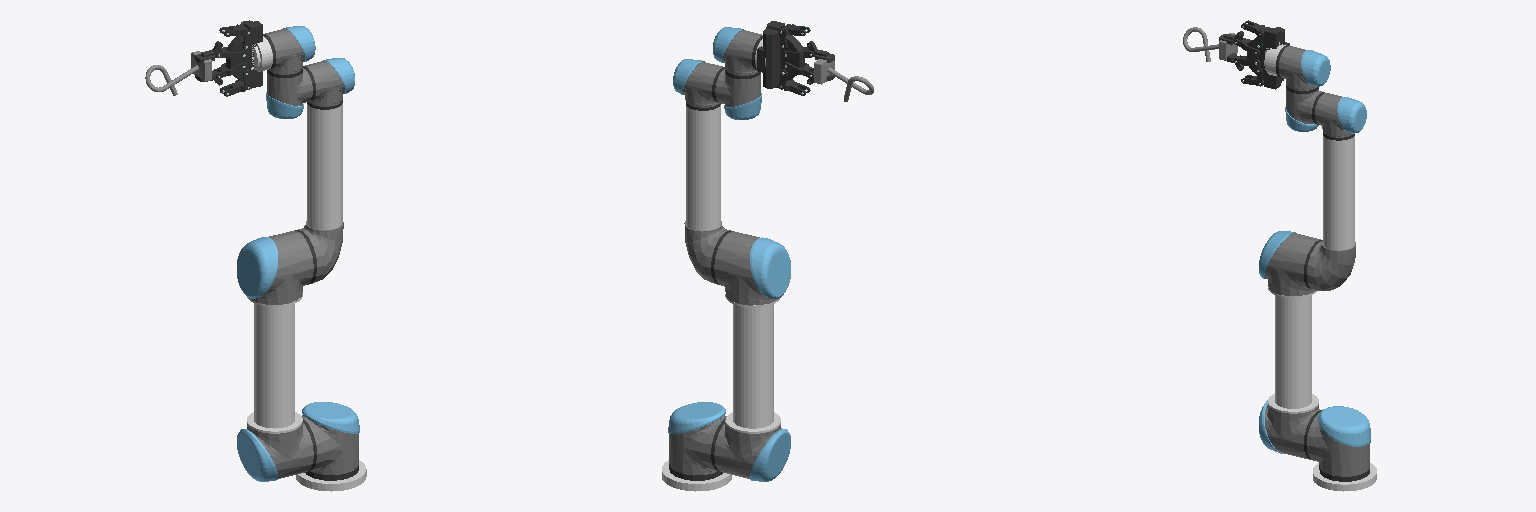
--- Render facts (derived) ---
Views: 3 orthographic renders of the robot side by side, from view 1: azimuth 30°, elevation 25°; view 2: azimuth 150°, elevation 25°; view 3: azimuth 330°, elevation 25°.
Robot: robot_base_respondable — 17 links, 16 joints (10 revolute, 6 continuous); root link robot_base; default pose: all joints at 0.
Links seen in each view (by area): view 1: link_2_respondable_respondable_respondable_respondable, link_3_respondable_respondable_respondable_respondable, link_respondable_respondable_respondable_respondable, link_5_respondable_respondable_respondable_respondable, link_4_respondable_respondable_respondable_respondable, robot_base, robotiq_base_respondable_respondable_respondable_respondable, alpha_link_respondable_respondable; view 2: link_2_respondable_respondable_respondable_respondable, link_3_respondable_respondable_respondable_respondable, link_respondable_respondable_respondable_respondable, link_5_respondable_respondable_respondable_respondable, link_4_respondable_respondable_respondable_respondable, robotiq_base_respondable_respondable_respondable_respondable, robot_base, alpha_link_respondable_respondable; view 3: link_2_respondable_respondable_respondable_respondable, link_3_respondable_respondable_respondable_respondable, link_respondable_respondable_respondable_respondable, link_5_respondable_respondable_respondable_respondable, link_4_respondable_respondable_respondable_respondable, robot_base, robotiq_base_respondable_respondable_respondable_respondable, alpha_link_respondable_respondable.
Link boxes in pixels (bbox=[...]): link_2_respondable_respondable_respondable_respondable: bbox=[237, 230, 316, 481]; link_3_respondable_respondable_respondable_respondable: bbox=[297, 58, 354, 283]; link_respondable_respondable_respondable_respondable: bbox=[302, 402, 359, 474]; link_5_respondable_respondable_respondable_respondable: bbox=[263, 26, 315, 77]; link_4_respondable_respondable_respondable_respondable: bbox=[266, 66, 315, 118]; robot_base: bbox=[296, 460, 366, 491]; robotiq_base_respondable_respondable_respondable_respondable: bbox=[226, 20, 262, 88]; alpha_link_respondable_respondable: bbox=[145, 51, 211, 95]; link_2_respondable_respondable_respondable_respondable: bbox=[711, 230, 790, 481]; link_3_respondable_respondable_respondable_respondable: bbox=[673, 59, 732, 284]; link_respondable_respondable_respondable_respondable: bbox=[668, 402, 726, 475]; link_5_respondable_respondable_respondable_respondable: bbox=[713, 27, 762, 78]; link_4_respondable_respondable_respondable_respondable: bbox=[712, 67, 761, 119]; robotiq_base_respondable_respondable_respondable_respondable: bbox=[757, 21, 804, 88]; robot_base: bbox=[662, 460, 731, 491]; alpha_link_respondable_respondable: bbox=[814, 59, 873, 101]; link_2_respondable_respondable_respondable_respondable: bbox=[1259, 231, 1322, 459]; link_3_respondable_respondable_respondable_respondable: bbox=[1307, 93, 1366, 290]; link_respondable_respondable_respondable_respondable: bbox=[1304, 406, 1370, 476]; link_5_respondable_respondable_respondable_respondable: bbox=[1275, 45, 1330, 93]; link_4_respondable_respondable_respondable_respondable: bbox=[1285, 88, 1324, 131]; robot_base: bbox=[1313, 463, 1376, 491]; robotiq_base_respondable_respondable_respondable_respondable: bbox=[1247, 27, 1289, 89]; alpha_link_respondable_respondable: bbox=[1183, 27, 1237, 61].
Size in the robot's own frame: 0.5032 by 0.1455 by 1.08 metres.
Meshes: 43 distinct files referenced, 43 mesh visuals loaded (43 Collada DAE).

URDF robot description (robot_base_respondable):
<?xml version="1.0"?>
<robot name="robot_base_respondable">
    <link name="robot_base">
        <collision name="robot_base_respondable">
            <origin xyz="0.000000 -0.000000 0.008500" rpy="3.141592 3.141593 -2.552481" />
            <geometry>
                <cylinder length="0.012300089001656" radius="0.056886240839958" />
            </geometry>
        </collision>
        <collision name="robot_base_respondable">
            <origin xyz="0.000000 -0.000000 -0.006150" rpy="-3.141592 3.141593 1.747927" />
            <geometry>
                <cylinder length="0.017000352963805" radius="0.072642646729946" />
            </geometry>
        </collision>
        <visual name="robot_base_visual">
            <origin xyz="0.000000 -0.000000 0.000000" rpy="3.141592 3.141593 3.141592" />
            <geometry>
                <mesh filename="models/urdf/ur5_closed_robotiq_alpha_oriented/ur5_closed_robotiq_alpha_oriented_robot_base_visual_vis_1.dae" />
            </geometry>
            <material name="robot_base_visual_material">
                <color rgba="0.870588 0.870588 0.870588 1.0" />
            </material>
        </visual>
        <visual name="robot_base_visual">
            <origin xyz="0.000000 -0.000000 0.000000" rpy="3.141592 3.141593 3.141592" />
            <geometry>
                <mesh filename="models/urdf/ur5_closed_robotiq_alpha_oriented/ur5_closed_robotiq_alpha_oriented_robot_base_visual_vis_2.dae" />
            </geometry>
            <material name="robot_base_visual_material">
                <color rgba="0.282353 0.282353 0.282353 1.0" />
            </material>
        </visual>
    </link>
    <joint type="revolute" name="joint">
        <axis xyz="0 0 1" />
        <limit effort="200.0" velocity="1.5707963705063" lower="-6.2831854820251" upper="6.2831854820251" />
        <parent link="robot_base" />
        <child link="link_respondable_respondable_respondable_respondable" />
        <origin xyz="-0.000000 -0.000000 0.008500" rpy="3.141592 3.141593 3.141592" />
    </joint>
    <link name="link_respondable_respondable_respondable_respondable">
        <inertial>
            <origin rpy="3.141592 3.141593 3.141592" xyz="-0.012312 0.000048 0.066405" />
            <inertia izz="0.09818059467752" iyz="-7.9251186174956e-05" ixx="0.095492165355254" iyy="0.10672965841326" ixz="0.0024490834762624" ixy="8.9516803607533e-05" />
            <mass value="2.5" />
        </inertial>
        <collision name="link_respondable_respondable_respondable_respondable">
            <origin xyz="-0.007178 0.000095 0.070381" rpy="3.141592 3.141593 3.141592" />
            <geometry>
                <mesh filename="models/urdf/ur5_closed_robotiq_alpha_oriented/ur5_closed_robotiq_alpha_oriented_link_respondable_respondable_respondable_respondable_coll_1.dae" />
            </geometry>
        </collision>
        <collision name="link_respondable_respondable_respondable_respondable">
            <origin xyz="-0.007178 0.000095 0.070381" rpy="3.141592 3.141593 3.141592" />
            <geometry>
                <mesh filename="models/urdf/ur5_closed_robotiq_alpha_oriented/ur5_closed_robotiq_alpha_oriented_link_respondable_respondable_respondable_respondable_coll_2.dae" />
            </geometry>
        </collision>
        <collision name="link_respondable_respondable_respondable_respondable">
            <origin xyz="-0.007178 0.000095 0.070381" rpy="3.141592 3.141593 3.141592" />
            <geometry>
                <mesh filename="models/urdf/ur5_closed_robotiq_alpha_oriented/ur5_closed_robotiq_alpha_oriented_link_respondable_respondable_respondable_respondable_coll_3.dae" />
            </geometry>
        </collision>
        <visual name="link_respondable_respondable_respondable_visual">
            <origin xyz="-0.007150 0.000000 0.070335" rpy="3.141592 3.141593 3.141592" />
            <geometry>
                <mesh filename="models/urdf/ur5_closed_robotiq_alpha_oriented/ur5_closed_robotiq_alpha_oriented_link_respondable_respondable_respondable_visual_vis_1.dae" />
            </geometry>
            <material name="link_respondable_respondable_respondable_visual_material">
                <color rgba="0.282353 0.282353 0.282353 1.0" />
            </material>
        </visual>
        <visual name="link_respondable_respondable_respondable_visual">
            <origin xyz="-0.007150 0.000000 0.070335" rpy="3.141592 3.141593 3.141592" />
            <geometry>
                <mesh filename="models/urdf/ur5_closed_robotiq_alpha_oriented/ur5_closed_robotiq_alpha_oriented_link_respondable_respondable_respondable_visual_vis_2.dae" />
            </geometry>
            <material name="link_respondable_respondable_respondable_visual_material">
                <color rgba="0.535294 0.535294 0.535294 1.0" />
            </material>
        </visual>
        <visual name="link_respondable_respondable_respondable_visual">
            <origin xyz="-0.007150 0.000000 0.070335" rpy="3.141592 3.141593 3.141592" />
            <geometry>
                <mesh filename="models/urdf/ur5_closed_robotiq_alpha_oriented/ur5_closed_robotiq_alpha_oriented_link_respondable_respondable_respondable_visual_vis_3.dae" />
            </geometry>
            <material name="link_respondable_respondable_respondable_visual_material">
                <color rgba="0.508235 0.761224 0.903529 1.0" />
            </material>
        </visual>
    </link>
    <joint type="revolute" name="joint_2">
        <axis xyz="0 0 1" />
        <limit effort="200.0" velocity="1.5707963705063" lower="-6.2831854820251" upper="6.2831854820251" />
        <parent link="link_respondable_respondable_respondable_respondable" />
        <child link="link_2_respondable_respondable_respondable_respondable" />
        <origin xyz="-0.070300 0.000000 0.066050" rpy="0.000001 -1.570796 0.000000" />
    </joint>
    <link name="link_2_respondable_respondable_respondable_respondable">
        <inertial>
            <origin rpy="-0.000000 1.570796 0.000000" xyz="0.215595 -0.000035 0.063573" />
            <inertia izz="0.067345368316432" iyz="-0.00017721757850982" ixx="0.62573305153059" iyy="0.63325135224174" ixz="-0.0052638063542259" ixy="9.2431180680848e-06" />
            <mass value="5.6999998092651" />
        </inertial>
        <collision name="link_2_respondable_respondable_respondable_respondable">
            <origin xyz="0.212550 -0.000115 0.064235" rpy="-0.000000 1.570796 0.000000" />
            <geometry>
                <mesh filename="models/urdf/ur5_closed_robotiq_alpha_oriented/ur5_closed_robotiq_alpha_oriented_link_2_respondable_respondable_respondable_respondable_coll_1.dae" />
            </geometry>
        </collision>
        <collision name="link_2_respondable_respondable_respondable_respondable">
            <origin xyz="0.212550 -0.000115 0.064235" rpy="-0.000000 1.570796 0.000000" />
            <geometry>
                <mesh filename="models/urdf/ur5_closed_robotiq_alpha_oriented/ur5_closed_robotiq_alpha_oriented_link_2_respondable_respondable_respondable_respondable_coll_2.dae" />
            </geometry>
        </collision>
        <collision name="link_2_respondable_respondable_respondable_respondable">
            <origin xyz="0.212550 -0.000115 0.064235" rpy="-0.000000 1.570796 0.000000" />
            <geometry>
                <mesh filename="models/urdf/ur5_closed_robotiq_alpha_oriented/ur5_closed_robotiq_alpha_oriented_link_2_respondable_respondable_respondable_respondable_coll_3.dae" />
            </geometry>
        </collision>
        <collision name="link_2_respondable_respondable_respondable_respondable">
            <origin xyz="0.212550 -0.000115 0.064235" rpy="-0.000000 1.570796 0.000000" />
            <geometry>
                <mesh filename="models/urdf/ur5_closed_robotiq_alpha_oriented/ur5_closed_robotiq_alpha_oriented_link_2_respondable_respondable_respondable_respondable_coll_4.dae" />
            </geometry>
        </collision>
        <collision name="link_2_respondable_respondable_respondable_respondable">
            <origin xyz="0.212550 -0.000115 0.064235" rpy="-0.000000 1.570796 0.000000" />
            <geometry>
                <mesh filename="models/urdf/ur5_closed_robotiq_alpha_oriented/ur5_closed_robotiq_alpha_oriented_link_2_respondable_respondable_respondable_respondable_coll_5.dae" />
            </geometry>
        </collision>
        <collision name="link_2_respondable_respondable_respondable_respondable">
            <origin xyz="0.212550 -0.000115 0.064235" rpy="-0.000000 1.570796 0.000000" />
            <geometry>
                <mesh filename="models/urdf/ur5_closed_robotiq_alpha_oriented/ur5_closed_robotiq_alpha_oriented_link_2_respondable_respondable_respondable_respondable_coll_6.dae" />
            </geometry>
        </collision>
        <collision name="link_2_respondable_respondable_respondable_respondable">
            <origin xyz="0.212550 -0.000115 0.064235" rpy="-0.000000 1.570796 0.000000" />
            <geometry>
                <mesh filename="models/urdf/ur5_closed_robotiq_alpha_oriented/ur5_closed_robotiq_alpha_oriented_link_2_respondable_respondable_respondable_respondable_coll_7.dae" />
            </geometry>
        </collision>
        <visual name="link_2_respondable_respondable_respondable_visual">
            <origin xyz="0.212550 -0.000000 0.064217" rpy="-0.000000 1.570796 0.000000" />
            <geometry>
                <mesh filename="models/urdf/ur5_closed_robotiq_alpha_oriented/ur5_closed_robotiq_alpha_oriented_link_2_respondable_respondable_respondable_visual_vis_1.dae" />
            </geometry>
            <material name="link_2_respondable_respondable_respondable_visual_material">
                <color rgba="0.870588 0.870588 0.870588 1.0" />
            </material>
        </visual>
        <visual name="link_2_respondable_respondable_respondable_visual">
            <origin xyz="0.212550 -0.000000 0.064217" rpy="-0.000000 1.570796 0.000000" />
            <geometry>
                <mesh filename="models/urdf/ur5_closed_robotiq_alpha_oriented/ur5_closed_robotiq_alpha_oriented_link_2_respondable_respondable_respondable_visual_vis_2.dae" />
            </geometry>
            <material name="link_2_respondable_respondable_respondable_visual_material">
                <color rgba="0.508235 0.761224 0.903529 1.0" />
            </material>
        </visual>
        <visual name="link_2_respondable_respondable_respondable_visual">
            <origin xyz="0.212550 -0.000000 0.064217" rpy="-0.000000 1.570796 0.000000" />
            <geometry>
                <mesh filename="models/urdf/ur5_closed_robotiq_alpha_oriented/ur5_closed_robotiq_alpha_oriented_link_2_respondable_respondable_respondable_visual_vis_3.dae" />
            </geometry>
            <material name="link_2_respondable_respondable_respondable_visual_material">
                <color rgba="0.535294 0.535294 0.535294 1.0" />
            </material>
        </visual>
        <visual name="link_2_respondable_respondable_respondable_visual">
            <origin xyz="0.212550 -0.000000 0.064217" rpy="-0.000000 1.570796 0.000000" />
            <geometry>
                <mesh filename="models/urdf/ur5_closed_robotiq_alpha_oriented/ur5_closed_robotiq_alpha_oriented_link_2_respondable_respondable_respondable_visual_vis_4.dae" />
            </geometry>
            <material name="link_2_respondable_respondable_respondable_visual_material">
                <color rgba="0.282353 0.282353 0.282353 1.0" />
            </material>
        </visual>
        <visual name="link_2_respondable_respondable_respondable_visual">
            <origin xyz="0.212550 -0.000000 0.064217" rpy="-0.000000 1.570796 0.000000" />
            <geometry>
                <mesh filename="models/urdf/ur5_closed_robotiq_alpha_oriented/ur5_closed_robotiq_alpha_oriented_link_2_respondable_respondable_respondable_visual_vis_5.dae" />
            </geometry>
            <material name="link_2_respondable_respondable_respondable_visual_material">
                <color rgba="0.535294 0.535294 0.535294 1.0" />
            </material>
        </visual>
        <visual name="link_2_respondable_respondable_respondable_visual">
            <origin xyz="0.212550 -0.000000 0.064217" rpy="-0.000000 1.570796 0.000000" />
            <geometry>
                <mesh filename="models/urdf/ur5_closed_robotiq_alpha_oriented/ur5_closed_robotiq_alpha_oriented_link_2_respondable_respondable_respondable_visual_vis_6.dae" />
            </geometry>
            <material name="link_2_respondable_respondable_respondable_visual_material">
                <color rgba="0.508235 0.761224 0.903529 1.0" />
            </material>
        </visual>
    </link>
    <joint type="revolute" name="joint_3">
        <axis xyz="0 0 1" />
        <limit effort="200.0" velocity="1.5707963705063" lower="-6.2831854820251" upper="6.2831854820251" />
        <parent link="link_2_respondable_respondable_respondable_respondable" />
        <child link="link_3_respondable_respondable_respondable_respondable" />
        <origin xyz="0.425100 -0.000000 0.000000" rpy="3.141593 3.141592 3.141592" />
    </joint>
    <link name="link_3_respondable_respondable_respondable_respondable">
        <inertial>
            <origin rpy="0.000000 1.570796 0.000000" xyz="0.192773 0.000015 -0.050153" />
            <inertia izz="0.035597955537677" iyz="-2.1029099787318e-05" ixx="0.4592564485459" iyy="0.46060709235019" ixz="-0.027670910392482" ixy="2.2187787147887e-06" />
            <mass value="3.9000000953674" />
        </inertial>
        <collision name="link_3_respondable_respondable_respondable_respondable">
            <origin xyz="0.186773 0.000016 -0.057847" rpy="0.000000 1.570796 0.000000" />
            <geometry>
                <mesh filename="models/urdf/ur5_closed_robotiq_alpha_oriented/ur5_closed_robotiq_alpha_oriented_link_3_respondable_respondable_respondable_respondable_coll_1.dae" />
            </geometry>
        </collision>
        <collision name="link_3_respondable_respondable_respondable_respondable">
            <origin xyz="0.186773 0.000016 -0.057847" rpy="0.000000 1.570796 0.000000" />
            <geometry>
                <mesh filename="models/urdf/ur5_closed_robotiq_alpha_oriented/ur5_closed_robotiq_alpha_oriented_link_3_respondable_respondable_respondable_respondable_coll_2.dae" />
            </geometry>
        </collision>
        <collision name="link_3_respondable_respondable_respondable_respondable">
            <origin xyz="0.186773 0.000016 -0.057847" rpy="0.000000 1.570796 0.000000" />
            <geometry>
                <mesh filename="models/urdf/ur5_closed_robotiq_alpha_oriented/ur5_closed_robotiq_alpha_oriented_link_3_respondable_respondable_respondable_respondable_coll_3.dae" />
            </geometry>
        </collision>
        <collision name="link_3_respondable_respondable_respondable_respondable">
            <origin xyz="0.186773 0.000016 -0.057847" rpy="0.000000 1.570796 0.000000" />
            <geometry>
                <mesh filename="models/urdf/ur5_closed_robotiq_alpha_oriented/ur5_closed_robotiq_alpha_oriented_link_3_respondable_respondable_respondable_respondable_coll_4.dae" />
            </geometry>
        </collision>
        <collision name="link_3_respondable_respondable_respondable_respondable">
            <origin xyz="0.186773 0.000016 -0.057847" rpy="0.000000 1.570796 0.000000" />
            <geometry>
                <mesh filename="models/urdf/ur5_closed_robotiq_alpha_oriented/ur5_closed_robotiq_alpha_oriented_link_3_respondable_respondable_respondable_respondable_coll_5.dae" />
            </geometry>
        </collision>
        <visual name="link_3_respondable_respondable_respondable_visual">
            <origin xyz="0.186650 -0.000000 -0.057850" rpy="0.000000 1.570796 0.000000" />
            <geometry>
                <mesh filename="models/urdf/ur5_closed_robotiq_alpha_oriented/ur5_closed_robotiq_alpha_oriented_link_3_respondable_respondable_respondable_visual_vis_1.dae" />
            </geometry>
            <material name="link_3_respondable_respondable_respondable_visual_material">
                <color rgba="0.870588 0.870588 0.870588 1.0" />
            </material>
        </visual>
        <visual name="link_3_respondable_respondable_respondable_visual">
            <origin xyz="0.186650 -0.000000 -0.057850" rpy="0.000000 1.570796 0.000000" />
            <geometry>
                <mesh filename="models/urdf/ur5_closed_robotiq_alpha_oriented/ur5_closed_robotiq_alpha_oriented_link_3_respondable_respondable_respondable_visual_vis_2.dae" />
            </geometry>
            <material name="link_3_respondable_respondable_respondable_visual_material">
                <color rgba="0.535294 0.535294 0.535294 1.0" />
            </material>
        </visual>
        <visual name="link_3_respondable_respondable_respondable_visual">
            <origin xyz="0.186650 -0.000000 -0.057850" rpy="0.000000 1.570796 0.000000" />
            <geometry>
                <mesh filename="models/urdf/ur5_closed_robotiq_alpha_oriented/ur5_closed_robotiq_alpha_oriented_link_3_respondable_respondable_respondable_visual_vis_3.dae" />
            </geometry>
            <material name="link_3_respondable_respondable_respondable_visual_material">
                <color rgba="0.508235 0.761224 0.903529 1.0" />
            </material>
        </visual>
        <visual name="link_3_respondable_respondable_respondable_visual">
            <origin xyz="0.186650 -0.000000 -0.057850" rpy="0.000000 1.570796 0.000000" />
            <geometry>
                <mesh filename="models/urdf/ur5_closed_robotiq_alpha_oriented/ur5_closed_robotiq_alpha_oriented_link_3_respondable_respondable_respondable_visual_vis_4.dae" />
            </geometry>
            <material name="link_3_respondable_respondable_respondable_visual_material">
                <color rgba="0.282353 0.282353 0.282353 1.0" />
            </material>
        </visual>
        <visual name="link_3_respondable_respondable_respondable_visual">
            <origin xyz="0.186650 -0.000000 -0.057850" rpy="0.000000 1.570796 0.000000" />
            <geometry>
                <mesh filename="models/urdf/ur5_closed_robotiq_alpha_oriented/ur5_closed_robotiq_alpha_oriented_link_3_respondable_respondable_respondable_visual_vis_5.dae" />
            </geometry>
            <material name="link_3_respondable_respondable_respondable_visual_material">
                <color rgba="0.535294 0.535294 0.535294 1.0" />
            </material>
        </visual>
    </link>
    <joint type="revolute" name="joint_4">
        <axis xyz="0 0 1" />
        <limit effort="200.0" velocity="1.5707963705063" lower="-6.2831854820251" upper="6.2831854820251" />
        <parent link="link_3_respondable_respondable_respondable_respondable" />
        <child link="link_4_respondable_respondable_respondable_respondable" />
        <origin xyz="0.392150 -0.000000 0.000000" rpy="3.141593 3.141592 3.141592" />
    </joint>
    <link name="link_4_respondable_respondable_respondable_respondable">
        <inertial>
            <origin rpy="0.000000 1.570796 0.000000" xyz="-0.005517 -0.000003 0.030943" />
            <inertia izz="0.087106483494915" iyz="-1.791527123899e-05" ixx="0.10017005794782" iyy="0.11466452218562" ixz="-0.0020900872562349" ixy="3.1976010243315e-06" />
            <mass value="2.5" />
        </inertial>
        <collision name="link_4_respondable_respondable_respondable_respondable">
            <origin xyz="-0.007501 -0.000045 0.032830" rpy="0.000000 1.570796 0.000000" />
            <geometry>
                <mesh filename="models/urdf/ur5_closed_robotiq_alpha_oriented/ur5_closed_robotiq_alpha_oriented_link_4_respondable_respondable_respondable_respondable_coll_1.dae" />
            </geometry>
        </collision>
        <collision name="link_4_respondable_respondable_respondable_respondable">
            <origin xyz="-0.007501 -0.000045 0.032830" rpy="0.000000 1.570796 0.000000" />
            <geometry>
                <mesh filename="models/urdf/ur5_closed_robotiq_alpha_oriented/ur5_closed_robotiq_alpha_oriented_link_4_respondable_respondable_respondable_respondable_coll_2.dae" />
            </geometry>
        </collision>
        <collision name="link_4_respondable_respondable_respondable_respondable">
            <origin xyz="-0.007501 -0.000045 0.032830" rpy="0.000000 1.570796 0.000000" />
            <geometry>
                <mesh filename="models/urdf/ur5_closed_robotiq_alpha_oriented/ur5_closed_robotiq_alpha_oriented_link_4_respondable_respondable_respondable_respondable_coll_3.dae" />
            </geometry>
        </collision>
        <visual name="link_4_respondable_respondable_respondable_visual">
            <origin xyz="-0.007500 0.000000 0.032800" rpy="0.000000 1.570796 0.000000" />
            <geometry>
                <mesh filename="models/urdf/ur5_closed_robotiq_alpha_oriented/ur5_closed_robotiq_alpha_oriented_link_4_respondable_respondable_respondable_visual_vis_1.dae" />
            </geometry>
            <material name="link_4_respondable_respondable_respondable_visual_material">
                <color rgba="0.282353 0.282353 0.282353 1.0" />
            </material>
        </visual>
        <visual name="link_4_respondable_respondable_respondable_visual">
            <origin xyz="-0.007500 0.000000 0.032800" rpy="0.000000 1.570796 0.000000" />
            <geometry>
                <mesh filename="models/urdf/ur5_closed_robotiq_alpha_oriented/ur5_closed_robotiq_alpha_oriented_link_4_respondable_respondable_respondable_visual_vis_2.dae" />
            </geometry>
            <material name="link_4_respondable_respondable_respondable_visual_material">
                <color rgba="0.535294 0.535294 0.535294 1.0" />
            </material>
        </visual>
        <visual name="link_4_respondable_respondable_respondable_visual">
            <origin xyz="-0.007500 0.000000 0.032800" rpy="0.000000 1.570796 0.000000" />
            <geometry>
                <mesh filename="models/urdf/ur5_closed_robotiq_alpha_oriented/ur5_closed_robotiq_alpha_oriented_link_4_respondable_respondable_respondable_visual_vis_3.dae" />
            </geometry>
            <material name="link_4_respondable_respondable_respondable_visual_material">
                <color rgba="0.508235 0.761224 0.903529 1.0" />
            </material>
        </visual>
    </link>
    <joint type="revolute" name="joint_5">
        <axis xyz="0 0 1" />
        <limit effort="200.0" velocity="1.5707963705063" lower="-6.2831854820251" upper="6.2831854820251" />
        <parent link="link_4_respondable_respondable_respondable_respondable" />
        <child link="link_5_respondable_respondable_respondable_respondable" />
        <origin xyz="0.045575 -0.000000 0.039700" rpy="2.571178 1.570799 2.571178" />
    </joint>
    <link name="link_5_respondable_respondable_respondable_respondable">
        <inertial>
            <origin rpy="3.141592 3.141593 3.141592" xyz="0.002100 0.000002 0.040669" />
            <inertia izz="0.1041509279002" iyz="3.8714712477568e-06" ixx="0.08179215416809" iyy="0.11739579576874" ixz="-0.00073245390311674" ixy="-1.5531769026879e-05" />
            <mass value="2.5" />
        </inertial>
        <collision name="link_5_respondable_respondable_respondable_respondable">
            <origin xyz="0.003601 0.000045 0.042305" rpy="3.141592 3.141593 3.141592" />
            <geometry>
                <mesh filename="models/urdf/ur5_closed_robotiq_alpha_oriented/ur5_closed_robotiq_alpha_oriented_link_5_respondable_respondable_respondable_respondable_coll_1.dae" />
            </geometry>
        </collision>
        <collision name="link_5_respondable_respondable_respondable_respondable">
            <origin xyz="0.003601 0.000045 0.042305" rpy="3.141592 3.141593 3.141592" />
            <geometry>
                <mesh filename="models/urdf/ur5_closed_robotiq_alpha_oriented/ur5_closed_robotiq_alpha_oriented_link_5_respondable_respondable_respondable_respondable_coll_2.dae" />
            </geometry>
        </collision>
        <collision name="link_5_respondable_respondable_respondable_respondable">
            <origin xyz="0.003601 0.000045 0.042305" rpy="3.141592 3.141593 3.141592" />
            <geometry>
                <mesh filename="models/urdf/ur5_closed_robotiq_alpha_oriented/ur5_closed_robotiq_alpha_oriented_link_5_respondable_respondable_respondable_respondable_coll_3.dae" />
            </geometry>
        </collision>
        <visual name="link_5_respondable_respondable_respondable_visual">
            <origin xyz="0.003600 -0.000000 0.042275" rpy="3.141592 3.141593 3.141592" />
            <geometry>
                <mesh filename="models/urdf/ur5_closed_robotiq_alpha_oriented/ur5_closed_robotiq_alpha_oriented_link_5_respondable_respondable_respondable_visual_vis_1.dae" />
            </geometry>
            <material name="link_5_respondable_respondable_respondable_visual_material">
                <color rgba="0.535294 0.535294 0.535294 1.0" />
            </material>
        </visual>
        <visual name="link_5_respondable_respondable_respondable_visual">
            <origin xyz="0.003600 -0.000000 0.042275" rpy="3.141592 3.141593 3.141592" />
            <geometry>
                <mesh filename="models/urdf/ur5_closed_robotiq_alpha_oriented/ur5_closed_robotiq_alpha_oriented_link_5_respondable_respondable_respondable_visual_vis_2.dae" />
            </geometry>
            <material name="link_5_respondable_respondable_respondable_visual_material">
                <color rgba="0.508235 0.761224 0.903529 1.0" />
            </material>
        </visual>
        <visual name="link_5_respondable_respondable_respondable_visual">
            <origin xyz="0.003600 -0.000000 0.042275" rpy="3.141592 3.141593 3.141592" />
            <geometry>
                <mesh filename="models/urdf/ur5_closed_robotiq_alpha_oriented/ur5_closed_robotiq_alpha_oriented_link_5_respondable_respondable_respondable_visual_vis_3.dae" />
            </geometry>
            <material name="link_5_respondable_respondable_respondable_visual_material">
                <color rgba="0.282353 0.282353 0.282353 1.0" />
            </material>
        </visual>
        <visual name="link_5_respondable_respondable_respondable_visual">
            <origin xyz="0.003600 -0.000000 0.042275" rpy="3.141592 3.141593 3.141592" />
            <geometry>
                <mesh filename="models/urdf/ur5_closed_robotiq_alpha_oriented/ur5_closed_robotiq_alpha_oriented_link_5_respondable_respondable_respondable_visual_vis_4.dae" />
            </geometry>
            <material name="link_5_respondable_respondable_respondable_visual_material">
                <color rgba="0.282353 0.282353 0.282353 1.0" />
            </material>
        </visual>
    </link>
    <joint type="revolute" name="joint_6">
        <axis xyz="0 0 1" />
        <limit effort="200.0" velocity="1.5707963705063" lower="-6.2831854820251" upper="6.2831854820251" />
        <parent link="link_5_respondable_respondable_respondable_respondable" />
        <child link="link_6_respondable_respondable_respondable_respondable" />
        <origin xyz="0.014425 -0.000000 0.049175" rpy="-3.141592 4.712385 -3.141592" />
    </joint>
    <link name="link_6_respondable_respondable_respondable_respondable">
        <inertial>
            <origin rpy="-3.141593 3.141593 3.141592" xyz="0.000000 -0.000000 0.076675" />
            <inertia izz="0.010054638677955" iyz="6.1857946146313e-26" ixx="0.0058406852103875" iyy="0.0058406852103875" ixz="-6.1857946188379e-26" ixy="-2.7147808519794e-48" />
            <mass value="0.69999998807907" />
        </inertial>
        <collision name="link_6_respondable_respondable_respondable_respondable">
            <origin xyz="0.000000 -0.000000 0.076675" rpy="-3.141593 3.141593 3.141592" />
            <geometry>
                <cylinder length="0.025500684976578" radius="0.036602452397346" />
            </geometry>
        </collision>
        <visual name="link_6_respondable_respondable_respondable_visual">
            <origin xyz="0.003860 -0.000000 0.080425" rpy="0.000001 1.570796 0.000000" />
            <geometry>
                <mesh filename="models/urdf/ur5_closed_robotiq_alpha_oriented/ur5_closed_robotiq_alpha_oriented_link_6_respondable_respondable_respondable_visual_vis_1.dae" />
            </geometry>
            <material name="link_6_respondable_respondable_respondable_visual_material">
                <color rgba="0.870588 0.870588 0.870588 1.0" />
            </material>
        </visual>
    </link>
    <joint type="revolute" name="joint_6_2">
        <axis xyz="0 0 1" />
        <limit effort="200.0" velocity="1.5707963705063" lower="-6.2831854820251" upper="6.2831854820251" />
        <parent link="link_6_respondable_respondable_respondable_respondable" />
        <child link="robotiq_base_respondable_respondable_respondable_respondable" />
        <origin xyz="0.014425 0.000000 0.049175" rpy="1.569705 4.712384 -1.569705" />
    </joint>
    <link name="robotiq_base_respondable_respondable_respondable_respondable">
        <inertial>
            <origin rpy="1.570796 3.141592 -3.141591" xyz="0.043899 0.008350 0.012000" />
            <inertia izz="0.00072521695233332" iyz="-2.9619775669806e-11" ixx="0.00070222511049253" iyy="0.00024588701243668" ixz="3.003181387601e-05" ixy="-3.0779821976413e-10" />
            <mass value="0.5" />
        </inertial>
        <collision name="robotiq_base_respondable_respondable_respondable_respondable">
            <origin xyz="0.030000 0.010000 0.012000" rpy="1.570796 3.141592 -3.141591" />
            <geometry>
                <box size="0.017463 0.050800 0.057938" />
            </geometry>
        </collision>
        <collision name="robotiq_base_respondable_respondable_respondable_respondable">
            <origin xyz="0.083032 -0.004681 0.012000" rpy="3.141592 3.141592 -3.141591" />
            <geometry>
                <box size="0.040000 0.020600 0.040000" />
            </geometry>
        </collision>
        <collision name="robotiq_base_respondable_respondable_respondable_respondable">
            <origin xyz="0.041272 0.009924 0.012000" rpy="-0.000001 3.141592 -3.141591" />
            <geometry>
                <box size="0.030480 0.051435 0.139700" />
            </geometry>
        </collision>
        <visual name="robotiq_base_respondable_respondable_respondable_visual">
            <origin xyz="0.062151 0.010000 0.012000" rpy="-0.000005 1.570796 0.000000" />
            <geometry>
                <mesh filename="models/urdf/ur5_closed_robotiq_alpha_oriented/ur5_closed_robotiq_alpha_oriented_robotiq_base_respondable_respondable_respondable_visual_vis_1.dae" />
            </geometry>
            <material name="robotiq_base_respondable_respondable_respondable_visual_material">
                <color rgba="0.282317 0.282389 0.282389 1.0" />
            </material>
        </visual>
        <visual name="robotiq_base_respondable_respondable_respondable_visual">
            <origin xyz="0.062151 0.010000 0.012000" rpy="-0.000005 1.570796 0.000000" />
            <geometry>
                <mesh filename="models/urdf/ur5_closed_robotiq_alpha_oriented/ur5_closed_robotiq_alpha_oriented_robotiq_base_respondable_respondable_respondable_visual_vis_2.dae" />
            </geometry>
            <material name="robotiq_base_respondable_respondable_respondable_visual_material">
                <color rgba="1.000000 1.000000 1.000000 1.0" />
            </material>
        </visual>
    </link>
    <joint type="revolute" name="joint_6_3">
        <axis xyz="0 0 1" />
        <limit effort="200.0" velocity="1.5707963705063" lower="-6.2831854820251" upper="6.2831854820251" />
        <parent link="robotiq_base_respondable_respondable_respondable_respondable" />
        <child link="alpha_link_respondable_respondable" />
        <origin xyz="0.030000 0.010000 0.012000" rpy="1.570818 3.141589 -1.570788" />
    </joint>
    <link name="alpha_link_respondable_respondable">
        <collision name="alpha_link_respondable_respondable">
            <origin xyz="-0.010492 -0.001728 -0.122145" rpy="-3.141593 -1.570796 0.000000" />
            <geometry>
                <mesh filename="models/urdf/ur5_closed_robotiq_alpha_oriented/ur5_closed_robotiq_alpha_oriented_alpha_link_respondable_respondable_coll_1.dae" />
            </geometry>
        </collision>
        <visual name="alpha_dynamic">
            <origin xyz="-0.010492 -0.001728 -0.122145" rpy="-3.141593 -1.570796 0.000000" />
            <geometry>
                <mesh filename="models/urdf/ur5_closed_robotiq_alpha_oriented/ur5_closed_robotiq_alpha_oriented_alpha_dynamic_vis_1.dae" />
            </geometry>
            <material name="alpha_dynamic_material">
                <color rgba="0.600000 0.600000 0.600000 1.0" />
            </material>
        </visual>
    </link>
    <joint type="revolute" name="Rjoint1">
        <axis xyz="0 0 1" />
        <limit effort="1.0" velocity="0.69813168048859" lower="0.0" upper="0.78539818525314" />
        <parent link="robotiq_base_respondable_respondable_respondable_respondable" />
        <child link="Rfinger_respondable_respondable_respondable_respondable" />
        <origin xyz="0.074600 -0.004681 -0.000738" rpy="-1.365597 1.570798 -2.936391" />
    </joint>
    <link name="Rfinger_respondable_respondable_respondable_respondable">
        <inertial>
            <origin rpy="1.570973 3.138398 -0.197315" xyz="0.005488 0.027095 -0.000010" />
            <inertia izz="7.6569405819033e-06" iyz="2.3306575187576e-20" ixx="3.4844272621657e-05" iyy="2.9984947551464e-05" ixz="2.0286971704159e-20" ixy="3.0270197699468e-21" />
            <mass value="0.10000000149012" />
        </inertial>
        <collision name="Rfinger_respondable_respondable_respondable_respondable">
            <origin xyz="0.005488 0.027095 -0.000010" rpy="1.570973 3.138398 -0.197315" />
            <geometry>
                <box size="0.015803 0.033427 0.071444" />
            </geometry>
        </collision>
        <visual name="Rfinger_respondable_respondable_respondable_visual">
            <origin xyz="0.005488 0.027095 -0.000010" rpy="1.570973 3.138398 -0.197315" />
            <geometry>
                <mesh filename="models/urdf/ur5_closed_robotiq_alpha_oriented/ur5_closed_robotiq_alpha_oriented_Rfinger_respondable_respondable_respondable_visual_vis_1.dae" />
            </geometry>
            <material name="Rfinger_respondable_respondable_respondable_visual_material">
                <color rgba="0.282317 0.282389 0.282389 1.0" />
            </material>
        </visual>
        <visual name="Rfinger_respondable_respondable_respondable_visual">
            <origin xyz="0.005488 0.027095 -0.000010" rpy="1.570973 3.138398 -0.197315" />
            <geometry>
                <mesh filename="models/urdf/ur5_closed_robotiq_alpha_oriented/ur5_closed_robotiq_alpha_oriented_Rfinger_respondable_respondable_respondable_visual_vis_2.dae" />
            </geometry>
            <material name="Rfinger_respondable_respondable_respondable_visual_material">
                <color rgba="0.837524 0.970755 1.000000 1.0" />
            </material>
        </visual>
    </link>
    <joint type="continuous" name="Rjoint2">
        <axis xyz="0 0 1" />
        <parent link="Rfinger_respondable_respondable_respondable_respondable" />
        <child link="RfingerTip_respondable_respondable_respondable_respondable" />
        <origin xyz="0.011178 0.055908 -0.000005" rpy="3.141588 3.141599 -2.617992" />
    </joint>
    <link name="RfingerTip_respondable_respondable_respondable_respondable">
        <inertial>
            <origin rpy="1.570791 3.141584 2.618125" xyz="0.011429 0.016336 0.000003" />
            <inertia izz="1.0653877098426e-05" iyz="3.0402031090976e-09" ixx="3.0898972527854e-05" iyy="3.3094096464058e-05" ixz="9.351945982435e-06" ixy="-1.5997928581692e-09" />
            <mass value="0.10000000149012" />
        </inertial>
        <collision name="RfingerTip_respondable_respondable_respondable_respondable">
            <origin xyz="0.011082 0.025433 0.000005" rpy="1.570791 3.141584 2.618125" />
            <geometry>
                <box size="0.009509 0.025404 0.036832" />
            </geometry>
        </collision>
        <collision name="RfingerTip_respondable_respondable_respondable_respondable">
            <origin xyz="0.014108 0.016940 0.000003" rpy="-1.570934 3.141603 -0.523468" />
            <geometry>
                <box size="0.008509 0.014223 0.025144" />
            </geometry>
        </collision>
        <collision name="RfingerTip_respondable_respondable_respondable_respondable">
            <origin xyz="0.009800 -0.010308 0.000000" rpy="2.704256 1.571046 -1.484400" />
            <geometry>
                <box size="0.011078 0.012672 0.022135" />
            </geometry>
        </collision>
        <visual name="RfingerTip_respondable_respondable_respondable_visual">
            <origin xyz="0.015282 0.010304 0.000004" rpy="1.570922 3.141584 2.618151" />
            <geometry>
                <mesh filename="models/urdf/ur5_closed_robotiq_alpha_oriented/ur5_closed_robotiq_alpha_oriented_RfingerTip_respondable_respondable_respondable_visual_vis_1.dae" />
            </geometry>
            <material name="RfingerTip_respondable_respondable_respondable_visual_material">
                <color rgba="0.282317 0.282389 0.282389 1.0" />
            </material>
        </visual>
        <visual name="RfingerTip_respondable_respondable_respondable_visual">
            <origin xyz="0.015282 0.010304 0.000004" rpy="1.570922 3.141584 2.618151" />
            <geometry>
                <mesh filename="models/urdf/ur5_closed_robotiq_alpha_oriented/ur5_closed_robotiq_alpha_oriented_RfingerTip_respondable_respondable_respondable_visual_vis_2.dae" />
            </geometry>
            <material name="RfingerTip_respondable_respondable_respondable_visual_material">
                <color rgba="0.305882 0.305882 0.305882 1.0" />
            </material>
        </visual>
    </link>
    <joint type="continuous" name="RactiveJoint">
        <axis xyz="0 0 1" />
        <parent link="robotiq_base_respondable_respondable_respondable_respondable" />
        <child link="RauxLink1Visible_visual_visual_visual_visual" />
        <origin xyz="0.067942 -0.004681 -0.018601" rpy="-1.365597 1.570798 -2.936391" />
    </joint>
    <link name="RauxLink1Visible_visual_visual_visual_visual">
        <visual name="RauxLink1Visible_visual_visual_visual_visual">
            <origin xyz="0.014963 -0.001623 0.000001" rpy="-1.570931 3.141677 -1.674482" />
            <geometry>
                <mesh filename="models/urdf/ur5_closed_robotiq_alpha_oriented/ur5_closed_robotiq_alpha_oriented_RauxLink1Visible_visual_visual_visual_visual_vis_1.dae" />
            </geometry>
            <material name="RauxLink1Visible_visual_visual_visual_visual_material">
                <color rgba="0.282317 0.282389 0.282389 1.0" />
            </material>
        </visual>
        <visual name="RauxLink1Visible_visual_visual_visual_visual">
            <origin xyz="0.014963 -0.001623 0.000001" rpy="-1.570931 3.141677 -1.674482" />
            <geometry>
                <mesh filename="models/urdf/ur5_closed_robotiq_alpha_oriented/ur5_closed_robotiq_alpha_oriented_RauxLink1Visible_visual_visual_visual_visual_vis_2.dae" />
            </geometry>
            <material name="RauxLink1Visible_visual_visual_visual_visual_material">
                <color rgba="0.837524 0.970755 1.000000 1.0" />
            </material>
        </visual>
    </link>
    <joint type="continuous" name="RauxJoint2">
        <axis xyz="0 0 1" />
        <parent link="RauxLink1Visible_visual_visual_visual_visual" />
        <child link="RauxLink2Visible_visual_visual_visual_visual" />
        <origin xyz="0.031465 -0.004244 -0.000000" rpy="-3.141592 3.141593 -3.141592" />
    </joint>
    <link name="RauxLink2Visible_visual_visual_visual_visual">
        <visual name="RauxLink2Visible_visual_visual_visual_visual">
            <origin xyz="0.003104 0.023609 0.000000" rpy="-1.570795 3.141585 -0.130688" />
            <geometry>
                <mesh filename="models/urdf/ur5_closed_robotiq_alpha_oriented/ur5_closed_robotiq_alpha_oriented_RauxLink2Visible_visual_visual_visual_visual_vis_1.dae" />
            </geometry>
            <material name="RauxLink2Visible_visual_visual_visual_visual_material">
                <color rgba="0.282317 0.282389 0.282389 1.0" />
            </material>
        </visual>
        <visual name="RauxLink2Visible_visual_visual_visual_visual">
            <origin xyz="0.003104 0.023609 0.000000" rpy="-1.570795 3.141585 -0.130688" />
            <geometry>
                <mesh filename="models/urdf/ur5_closed_robotiq_alpha_oriented/ur5_closed_robotiq_alpha_oriented_RauxLink2Visible_visual_visual_visual_visual_vis_2.dae" />
            </geometry>
            <material name="RauxLink2Visible_visual_visual_visual_visual_material">
                <color rgba="0.837524 0.970755 1.000000 1.0" />
            </material>
        </visual>
    </link>
    <joint type="revolute" name="Ljoint1">
        <axis xyz="0 0 1" />
        <limit effort="1.0" velocity="0.69813168048859" lower="0.0" upper="0.78539818525314" />
        <parent link="robotiq_base_respondable_respondable_respondable_respondable" />
        <child link="Lfinger_respondable_respondable_respondable_respondable" />
        <origin xyz="0.074600 -0.004681 0.024736" rpy="-1.570793 -1.570796 0.000000" />
    </joint>
    <link name="Lfinger_respondable_respondable_respondable_respondable">
        <inertial>
            <origin rpy="1.570973 3.138400 -0.197320" xyz="0.005488 0.027096 -0.000000" />
            <inertia izz="7.6569405819033e-06" iyz="2.5231646246181e-20" ixx="3.4844272621657e-05" iyy="2.9984947551464e-05" ixz="1.7991877794729e-20" ixy="4.0558578097857e-21" />
            <mass value="0.10000000149012" />
        </inertial>
        <collision name="Lfinger_respondable_respondable_respondable_respondable">
            <origin xyz="0.005488 0.027096 -0.000000" rpy="1.570973 3.138400 -0.197320" />
            <geometry>
                <box size="0.015803 0.033427 0.071444" />
            </geometry>
        </collision>
        <visual name="Lfinger_respondable_respondable_respondable_visual">
            <origin xyz="0.005488 0.027096 -0.000000" rpy="1.570973 3.138400 -0.197320" />
            <geometry>
                <mesh filename="models/urdf/ur5_closed_robotiq_alpha_oriented/ur5_closed_robotiq_alpha_oriented_Lfinger_respondable_respondable_respondable_visual_vis_1.dae" />
            </geometry>
            <material name="Lfinger_respondable_respondable_respondable_visual_material">
                <color rgba="0.282317 0.282389 0.282389 1.0" />
            </material>
        </visual>
        <visual name="Lfinger_respondable_respondable_respondable_visual">
            <origin xyz="0.005488 0.027096 -0.000000" rpy="1.570973 3.138400 -0.197320" />
            <geometry>
                <mesh filename="models/urdf/ur5_closed_robotiq_alpha_oriented/ur5_closed_robotiq_alpha_oriented_Lfinger_respondable_respondable_respondable_visual_vis_2.dae" />
            </geometry>
            <material name="Lfinger_respondable_respondable_respondable_visual_material">
                <color rgba="0.837524 0.970755 1.000000 1.0" />
            </material>
        </visual>
    </link>
    <joint type="continuous" name="Ljoint2">
        <axis xyz="0 0 1" />
        <parent link="Lfinger_respondable_respondable_respondable_respondable" />
        <child link="LfingerTip_respondable_respondable_respondable_respondable" />
        <origin xyz="0.011178 0.055909 0.000005" rpy="3.141589 3.141598 -2.617995" />
    </joint>
    <link name="LfingerTip_respondable_respondable_respondable_respondable">
        <inertial>
            <origin rpy="1.570803 3.141585 2.617862" xyz="0.011426 0.016336 -0.000007" />
            <inertia izz="1.0653864139997e-05" iyz="3.0402050629679e-09" ixx="3.0898985486283e-05" iyy="3.3094096464058e-05" ixz="9.3519319562104e-06" ixy="-1.5997909493312e-09" />
            <mass value="0.10000000149012" />
        </inertial>
        <collision name="LfingerTip_respondable_respondable_respondable_respondable">
            <origin xyz="0.011081 0.025434 -0.000005" rpy="1.570803 3.141585 2.617862" />
            <geometry>
                <box size="0.009509 0.025404 0.036832" />
            </geometry>
        </collision>
        <collision name="LfingerTip_respondable_respondable_respondable_respondable">
            <origin xyz="0.014105 0.016940 -0.000006" rpy="-1.570946 3.141602 -0.523731" />
            <geometry>
                <box size="0.008509 0.014223 0.025144" />
            </geometry>
        </collision>
        <collision name="LfingerTip_respondable_respondable_respondable_respondable">
            <origin xyz="0.009790 -0.010306 -0.000010" rpy="2.674078 1.571055 -1.514842" />
            <geometry>
                <box size="0.011078 0.012672 0.022135" />
            </geometry>
        </collision>
        <visual name="LfingerTip_respondable_respondable_respondable_visual">
            <origin xyz="0.015277 0.010302 -0.000006" rpy="1.570934 3.141585 2.617887" />
            <geometry>
                <mesh filename="models/urdf/ur5_closed_robotiq_alpha_oriented/ur5_closed_robotiq_alpha_oriented_LfingerTip_respondable_respondable_respondable_visual_vis_1.dae" />
            </geometry>
            <material name="LfingerTip_respondable_respondable_respondable_visual_material">
                <color rgba="0.282317 0.282389 0.282389 1.0" />
            </material>
        </visual>
        <visual name="LfingerTip_respondable_respondable_respondable_visual">
            <origin xyz="0.015277 0.010302 -0.000006" rpy="1.570934 3.141585 2.617887" />
            <geometry>
                <mesh filename="models/urdf/ur5_closed_robotiq_alpha_oriented/ur5_closed_robotiq_alpha_oriented_LfingerTip_respondable_respondable_respondable_visual_vis_2.dae" />
            </geometry>
            <material name="LfingerTip_respondable_respondable_respondable_visual_material">
                <color rgba="0.305882 0.305882 0.305882 1.0" />
            </material>
        </visual>
    </link>
    <joint type="continuous" name="LactiveJoint">
        <axis xyz="0 0 1" />
        <parent link="robotiq_base_respondable_respondable_respondable_respondable" />
        <child link="LauxLink1Visible_visual_visual_visual_visual" />
        <origin xyz="0.067942 -0.004681 0.042599" rpy="-1.570793 -1.570796 0.000000" />
    </joint>
    <link name="LauxLink1Visible_visual_visual_visual_visual">
        <visual name="LauxLink1Visible_visual_visual_visual_visual">
            <origin xyz="0.014963 -0.001623 0.000001" rpy="-1.570931 3.141677 -1.674482" />
            <geometry>
                <mesh filename="models/urdf/ur5_closed_robotiq_alpha_oriented/ur5_closed_robotiq_alpha_oriented_LauxLink1Visible_visual_visual_visual_visual_vis_1.dae" />
            </geometry>
            <material name="LauxLink1Visible_visual_visual_visual_visual_material">
                <color rgba="0.282317 0.282389 0.282389 1.0" />
            </material>
        </visual>
        <visual name="LauxLink1Visible_visual_visual_visual_visual">
            <origin xyz="0.014963 -0.001623 0.000001" rpy="-1.570931 3.141677 -1.674482" />
            <geometry>
                <mesh filename="models/urdf/ur5_closed_robotiq_alpha_oriented/ur5_closed_robotiq_alpha_oriented_LauxLink1Visible_visual_visual_visual_visual_vis_2.dae" />
            </geometry>
            <material name="LauxLink1Visible_visual_visual_visual_visual_material">
                <color rgba="0.837524 0.970755 1.000000 1.0" />
            </material>
        </visual>
    </link>
    <joint type="continuous" name="LauxJoint2">
        <axis xyz="0 0 1" />
        <parent link="LauxLink1Visible_visual_visual_visual_visual" />
        <child link="LauxLink2Visible_visual_visual_visual_visual" />
        <origin xyz="0.031465 -0.004244 0.000000" rpy="3.141592 3.141593 -3.141592" />
    </joint>
    <link name="LauxLink2Visible_visual_visual_visual_visual">
        <visual name="LauxLink2Visible_visual_visual_visual_visual">
            <origin xyz="0.003104 0.023609 -0.000000" rpy="-1.570795 3.141585 -0.130688" />
            <geometry>
                <mesh filename="models/urdf/ur5_closed_robotiq_alpha_oriented/ur5_closed_robotiq_alpha_oriented_LauxLink2Visible_visual_visual_visual_visual_vis_1.dae" />
            </geometry>
            <material name="LauxLink2Visible_visual_visual_visual_visual_material">
                <color rgba="0.282317 0.282389 0.282389 1.0" />
            </material>
        </visual>
        <visual name="LauxLink2Visible_visual_visual_visual_visual">
            <origin xyz="0.003104 0.023609 -0.000000" rpy="-1.570795 3.141585 -0.130688" />
            <geometry>
                <mesh filename="models/urdf/ur5_closed_robotiq_alpha_oriented/ur5_closed_robotiq_alpha_oriented_LauxLink2Visible_visual_visual_visual_visual_vis_2.dae" />
            </geometry>
            <material name="LauxLink2Visible_visual_visual_visual_visual_material">
                <color rgba="0.837524 0.970755 1.000000 1.0" />
            </material>
        </visual>
    </link>
</robot>
